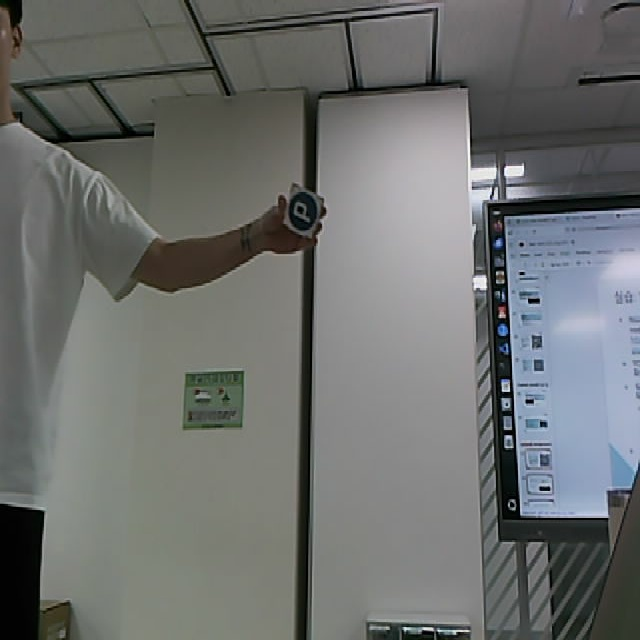parking: (284, 182, 324, 241)
